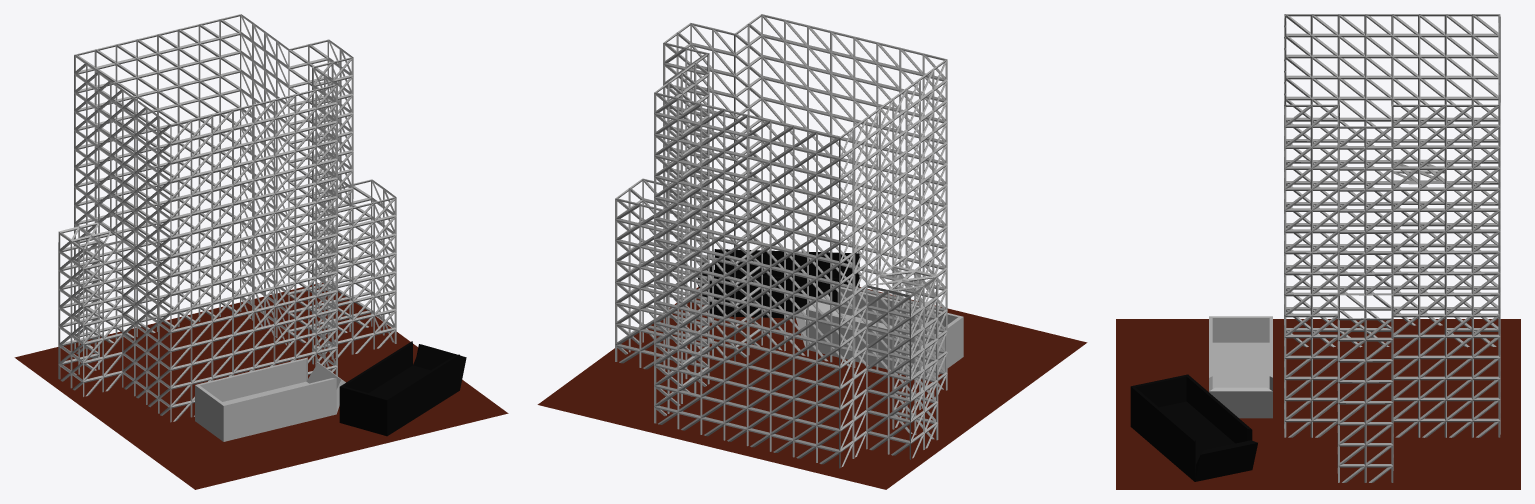
File: constructionSite.glb
3 renders of one model, left to right at view 1: azimuth 30°, elevation 25°; view 2: azimuth 150°, elevation 25°; view 3: azimuth 270°, elevation 25°, orthographic. The views are drawn at different scales.
Parts seen in each view (by area): view 1: construction site; view 2: construction site; view 3: construction site.
Part boxes in pixels (x1,y1,x2,y2): construction site: (14,14,508,489); construction site: (537,14,1087,489); construction site: (1116,14,1520,489).
Bounding box in the file's own units: 43.99 × 40.35 × 43.99.
